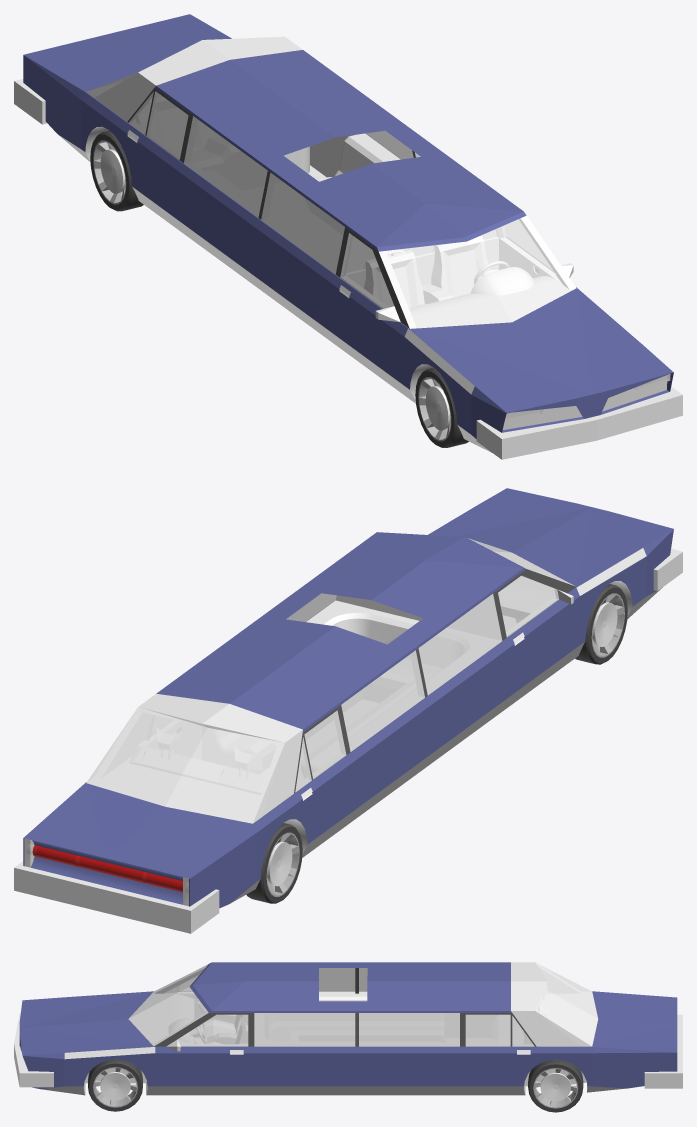
The model's file is Limuzin.fbx.
The picture shows the model from 3 angles, top to bottom: view 1: azimuth 30°, elevation 25°; view 2: azimuth 150°, elevation 25°; view 3: azimuth 270°, elevation 25°; orthographic projection. The views are drawn at different scales.
Visible parts, largest first — view 1: Layer0_001.008; view 2: Layer0_001.008; view 3: Layer0_001.008.
Part boxes in pixels (box(x1,y1,x2,y2)): Layer0_001.008: box(14, 14, 682, 459); Layer0_001.008: box(14, 488, 682, 933); Layer0_001.008: box(14, 962, 682, 1112).
Size of the model in its own units: 1.91 by 1.42 by 8.37.
